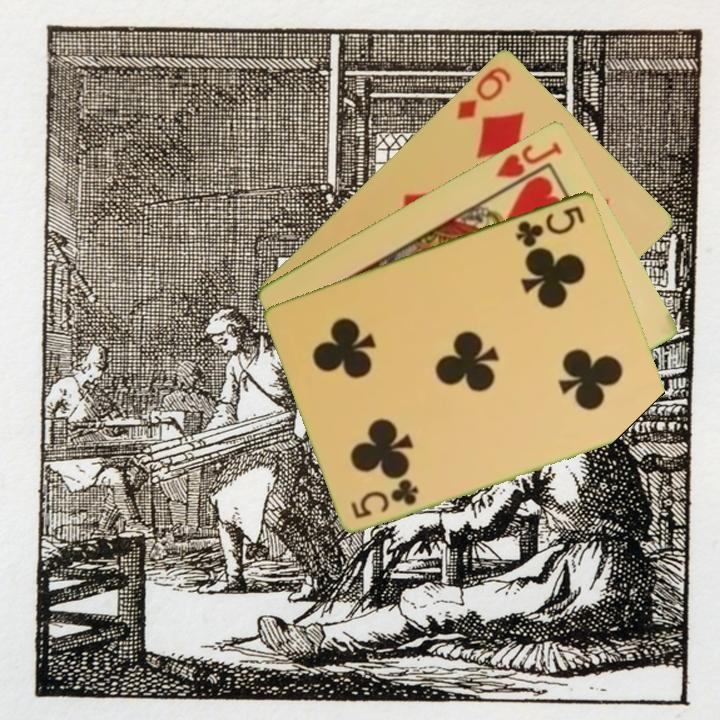5c: (512, 202, 588, 250), (347, 477, 422, 521)
6d: (453, 62, 514, 122)
Jh: (492, 137, 565, 181)
